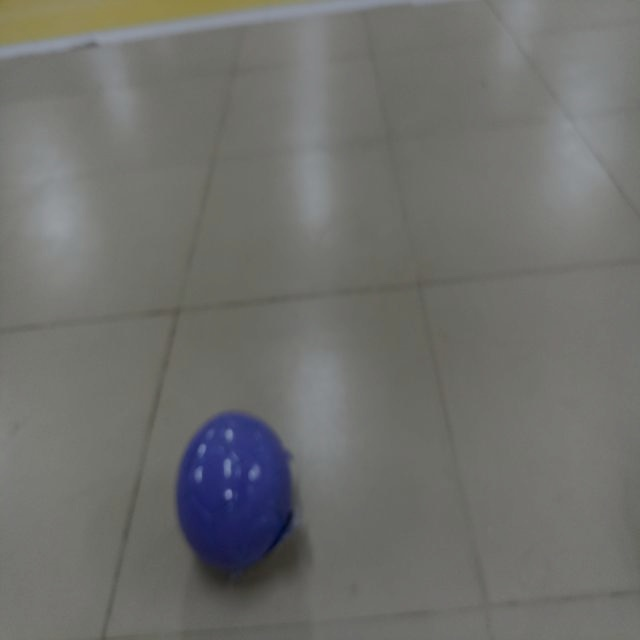purple_ball: (179, 415, 291, 557)
